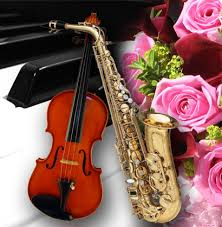Piano: (1, 5, 219, 227)
Saxophone: (62, 11, 206, 223)
Violin: (34, 21, 116, 221)
